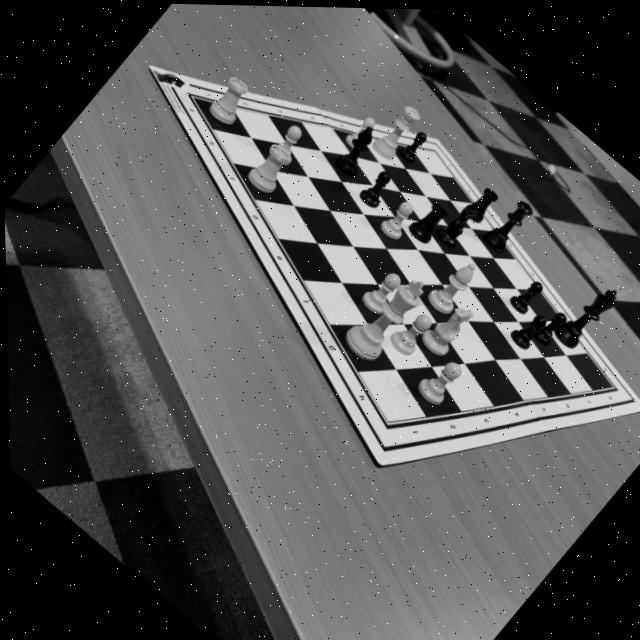chessboard: (189, 95, 613, 425)
